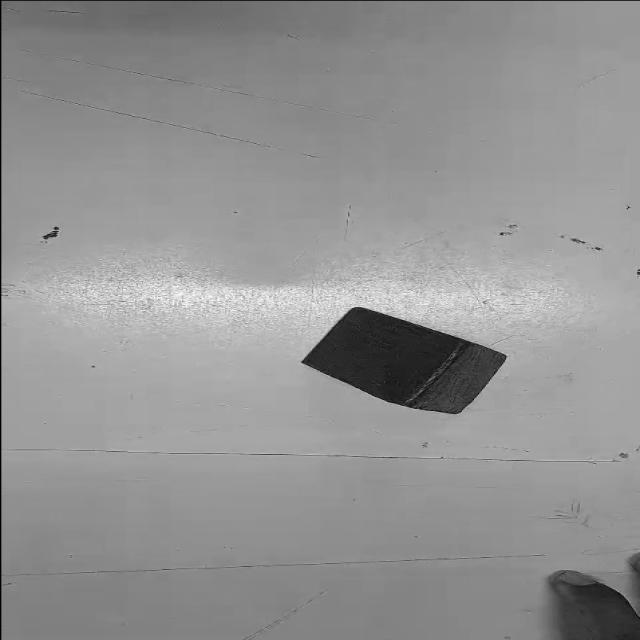btriangle: (298, 307, 508, 415)
